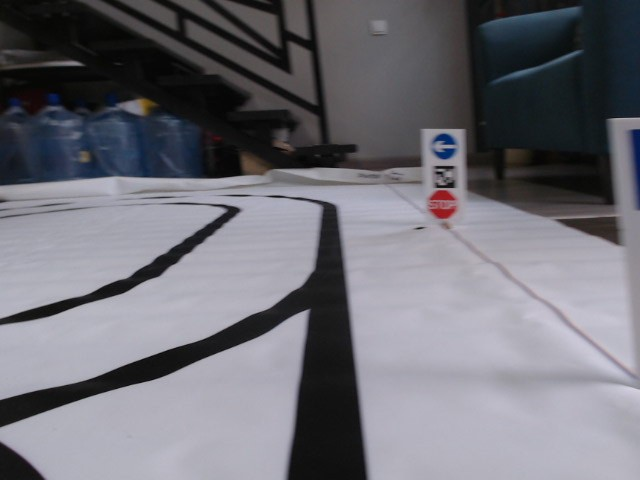Stop: (427, 189, 458, 219)
